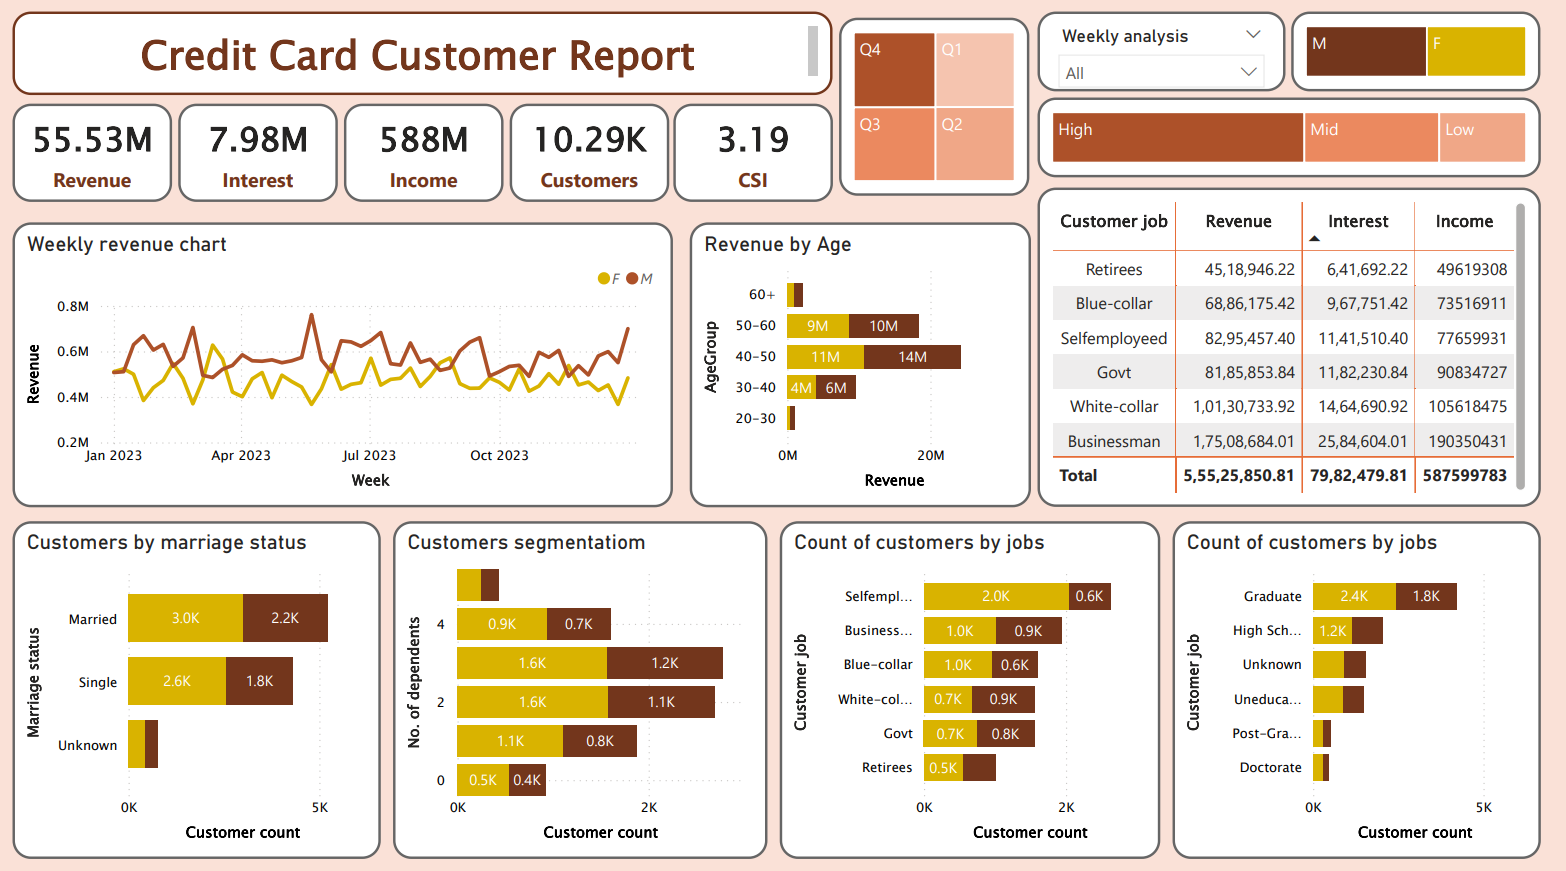

Layout of this report page (visuals, bound fields, positions):
{"tool":"powerbi","page":{"name":"CC_Customers","canvas":[1280,720],"ordinal":1},"visuals":[{"type":"textbox","box":[15,15,668.3,68.3],"z":0},{"type":"barChart","title":"Count of customers by jobs","fields":{"Category":["public cust_detail.customer_job"],"Y":["CountNonNull(public cust_detail.client_num)"],"Series":["public cust_detail.gender"]},"box":[640,430,310,275],"z":1},{"type":"card","fields":{"Values":["Sum(public cc_detail.Revenue)"]},"box":[15,90,130,80],"z":2},{"type":"card","fields":{"Values":["Sum(public cust_detail.income)"]},"box":[285,90,130,80],"z":3},{"type":"card","fields":{"Values":["Sum(public cc_detail.interest_earned)"]},"box":[150,90,130,80],"z":4},{"type":"lineChart","title":"Weekly revenue chart","fields":{"Y":["Sum(public cc_detail.Revenue)"],"Category":["public cc_detail.week_start_date.Variation.Date Hierarchy.Year","public cc_detail.week_start_date.Variation.Date Hierarchy.Quarter","public cc_detail.week_start_date.Variation.Date Hierarchy.Month","public cc_detail.week_start_date.Variation.Date Hierarchy.Day"],"Series":["public cust_detail.gender"]},"box":[15,186.7,538.3,231.7],"z":5},{"type":"treemap","fields":{"Group":["public cc_detail.qtr"],"Values":["Sum(public cc_detail.Revenue)"]},"box":[688,20,155,145],"z":6},{"type":"slicer","fields":{"Values":["public cc_detail.week_start_date"]},"box":[850,15,202,65],"z":7},{"type":"treemap","fields":{"Group":["public cust_detail.IncomeGroup"],"Values":["Sum(public cc_detail.Revenue)"]},"box":[850,85,410,65],"z":8},{"type":"treemap","fields":{"Group":["public cust_detail.gender"],"Values":["Sum(public cc_detail.Revenue)"]},"box":[1057,15,203.3,65],"z":9},{"type":"barChart","title":"Customers segmentatiom ","fields":{"Category":["public cust_detail.dependent_count"],"Y":["CountNonNull(public cust_detail.client_num)"],"Series":["public cust_detail.gender"]},"box":[325,430,305,275],"z":10},{"type":"barChart","title":"Customers by marriage status","fields":{"Y":["CountNonNull(public cust_detail.client_num)"],"Category":["public cust_detail.marital_status"],"Series":["public cust_detail.gender"]},"box":[15,430,300,275],"z":11},{"type":"barChart","title":"Count of customers by jobs","fields":{"Y":["CountNonNull(public cust_detail.client_num)"],"Category":["public cust_detail.education_level"],"Series":["public cust_detail.gender"]},"box":[960,430,300,275],"z":12},{"type":"tableEx","fields":{"Values":["public cust_detail.customer_job","Sum(public cc_detail.Revenue)","Sum(public cc_detail.interest_earned)","Sum(public cust_detail.income)"]},"box":[850,159,410,260],"z":13},{"type":"card","fields":{"Values":["Avg(public cust_detail.cust_satisfaction_score)"]},"box":[553.3,90,130,80],"z":14},{"type":"card","fields":{"Values":["CountNonNull(public cust_detail.client_num)"]},"box":[420,90,130,80],"z":15},{"type":"barChart","title":"Revenue by Age","fields":{"Category":["public cust_detail.AgeGroup"],"Y":["Sum(public cc_detail.Revenue)"],"Series":["public cust_detail.gender"]},"box":[566.7,186.7,278.3,231.7],"z":16}]}

Visuals, with their boxes in screenshot pixels (x1, y1, x2, y2), scaled from the page's 1280x720 canvas onto the 1566x871 screenshot:
textbox: 18, 18, 836, 101
"Count of customers by jobs" barChart: 783, 520, 1162, 853
card - Sum(public cc_detail.Revenue): 18, 109, 177, 206
card - Sum(public cust_detail.income): 349, 109, 508, 206
card - Sum(public cc_detail.interest_earned): 184, 109, 343, 206
"Weekly revenue chart" lineChart: 18, 226, 677, 506
treemap - public cc_detail.qtr x Sum(public cc_detail.Revenue): 842, 24, 1031, 200
slicer - public cc_detail.week_start_date: 1040, 18, 1287, 97
treemap - public cust_detail.IncomeGroup x Sum(public cc_detail.Revenue): 1040, 103, 1542, 181
treemap - public cust_detail.gender x Sum(public cc_detail.Revenue): 1293, 18, 1542, 97
"Customers segmentatiom " barChart: 398, 520, 771, 853
"Customers by marriage status" barChart: 18, 520, 385, 853
"Count of customers by jobs" barChart: 1174, 520, 1542, 853
tableEx - public cust_detail.customer_job x Sum(public cc_detail.Revenue): 1040, 192, 1542, 507
card - Avg(public cust_detail.cust_satisfaction_score): 677, 109, 836, 206
card - CountNonNull(public cust_detail.client_num): 514, 109, 673, 206
"Revenue by Age" barChart: 693, 226, 1034, 506
